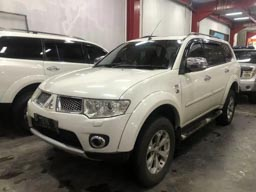plat: (33, 114, 58, 133)
